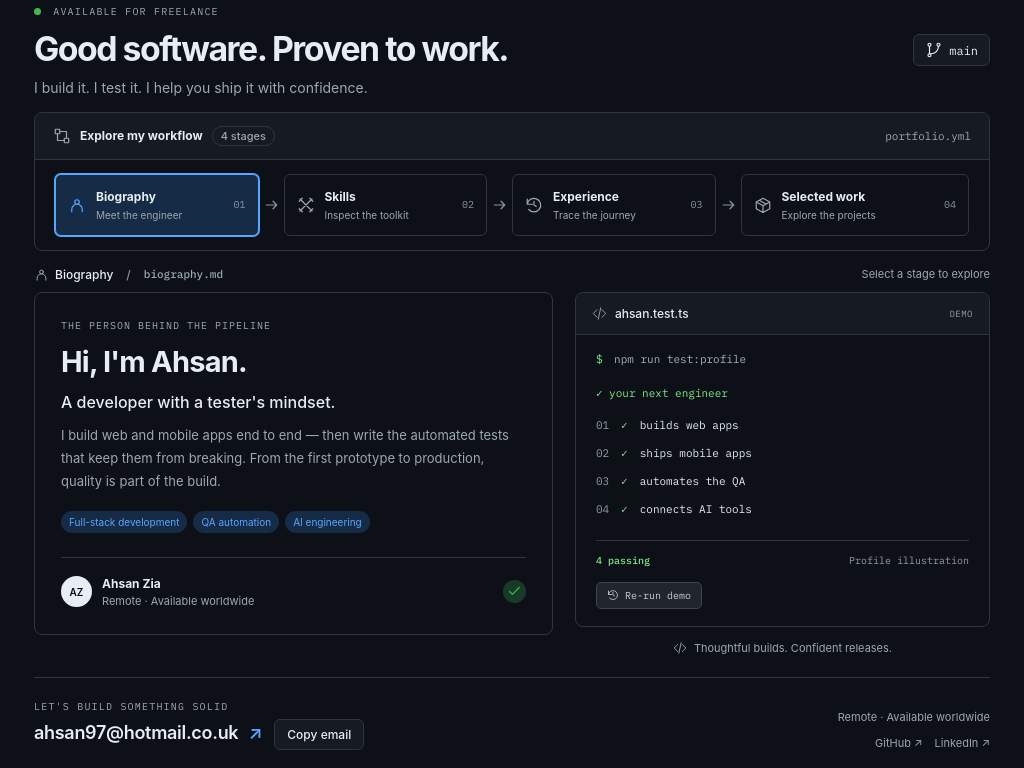
Test case: portfolio workflow › copies the contact address only reporting success after the clipboard resolves
The image size is (1024, 768).
(page scrolled)
Click the button "Copy email".
click(319, 734)  # box [274,718,364,750]
(page scrolled)
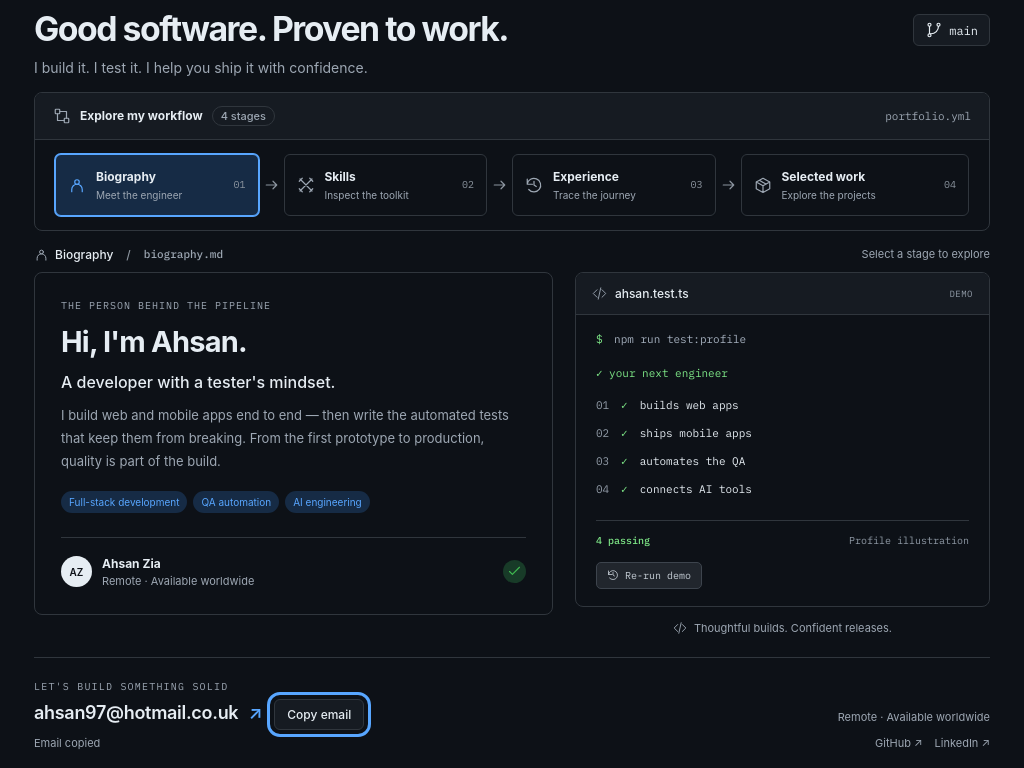
Check: the message named "Email copy status" reads "Email copied", box [34,736,100,750]
